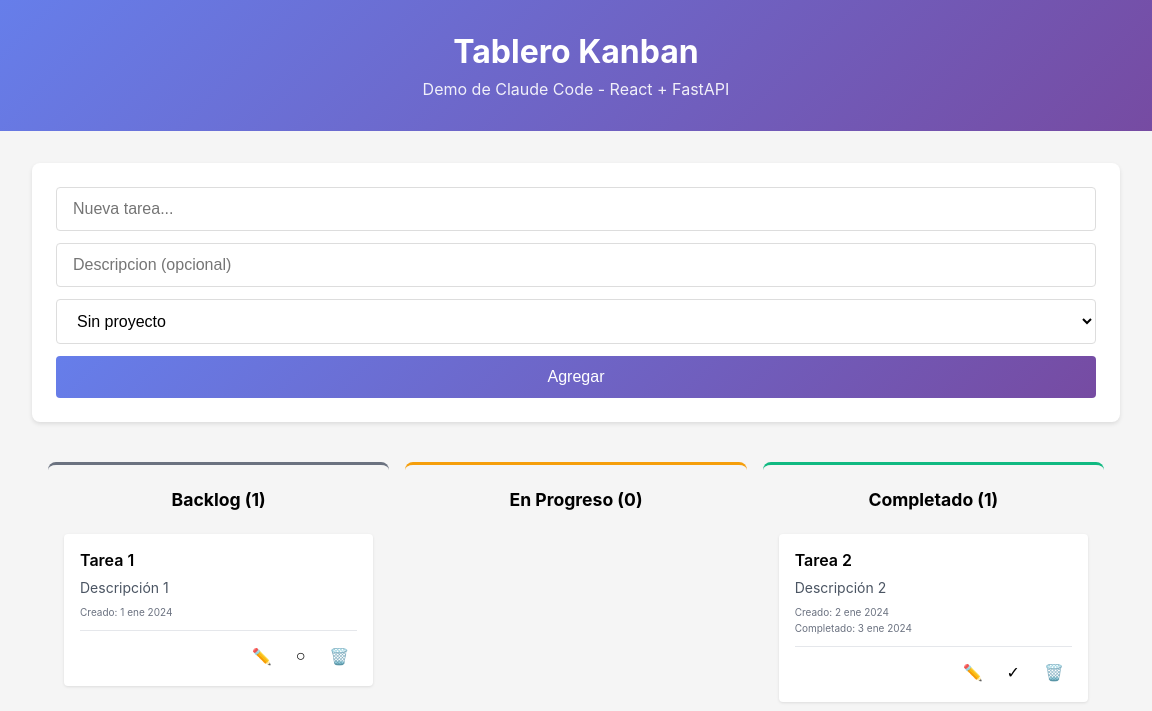
Test case: App › Eliminar tarea › muestra error si falla la eliminación
The image size is (1152, 711).
Expected: the heading "Tarea 1" is shown, [80,550,134,570]
Click the button titled "Eliminar" below "1 ene 2024" at (339, 656), box [321,643,357,670]
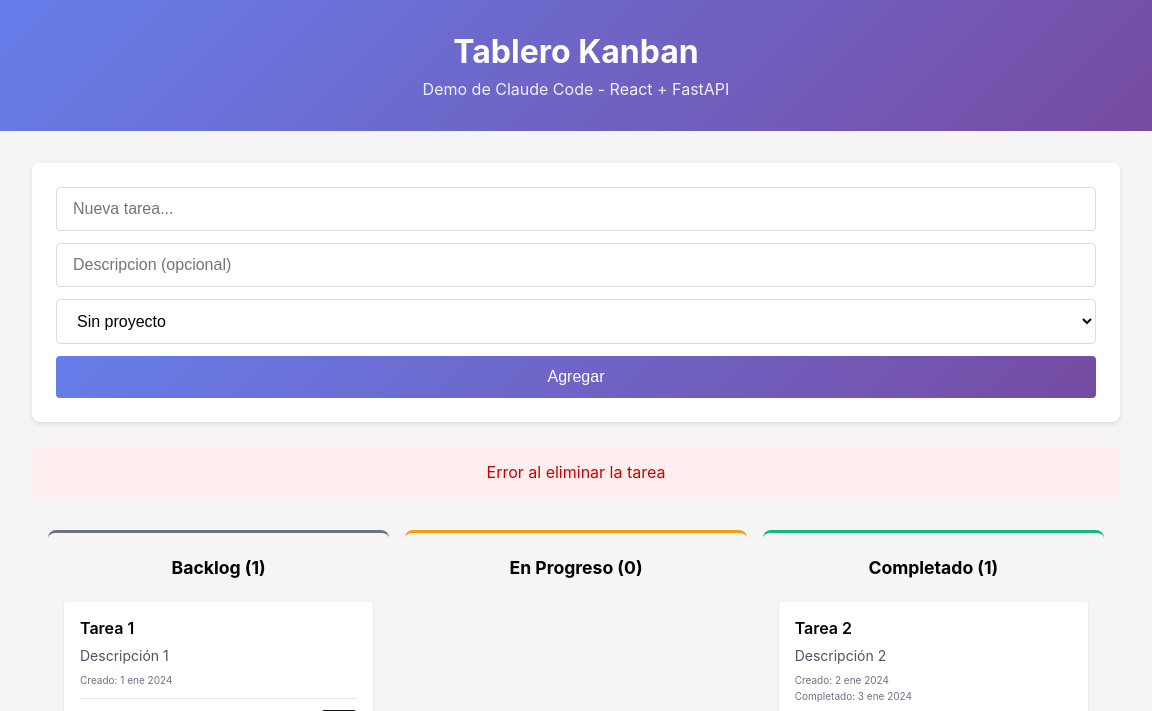
Now the text "Error al eliminar la tarea" is shown, box [32,446,1120,498]
